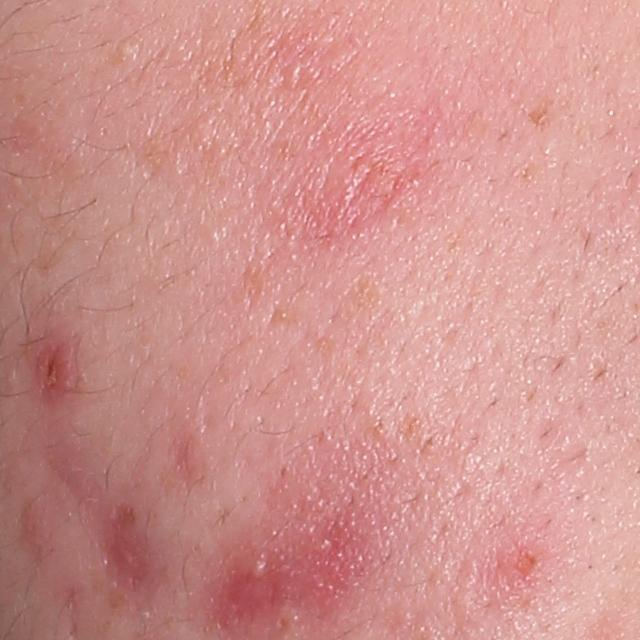atrophic_scar: (97, 496, 167, 595)
comedo: (113, 34, 146, 60)
papule: (30, 336, 76, 406)
